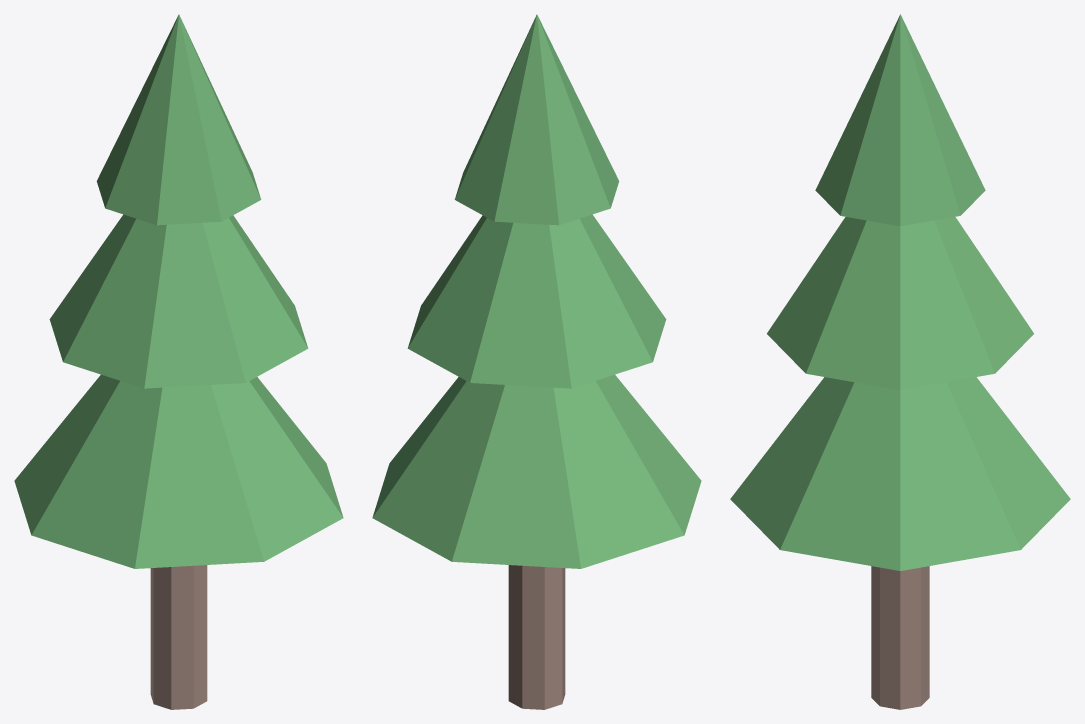
File: tree_pine.glb
The picture shows the model from 3 angles, left to right: view 1: azimuth 30°, elevation 25°; view 2: azimuth 150°, elevation 25°; view 3: azimuth 270°, elevation 25°; orthographic projection.
Parts seen in each view (by area): view 1: tree_pine; view 2: tree_pine; view 3: tree_pine.
Boxes of the visible parts, box(x1,y1,x2,y2) form: tree_pine: box(14, 14, 343, 709); tree_pine: box(372, 14, 701, 709); tree_pine: box(730, 14, 1070, 709).
Size of the model in its own units: 1.4 by 3.1 by 1.4.
